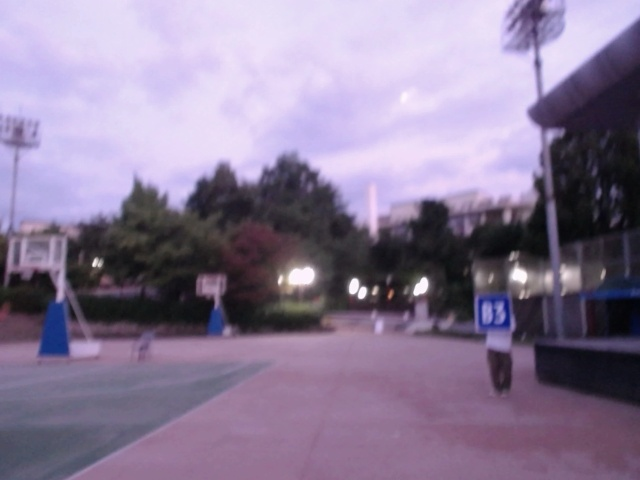delivery_b3: (475, 292, 513, 331)
